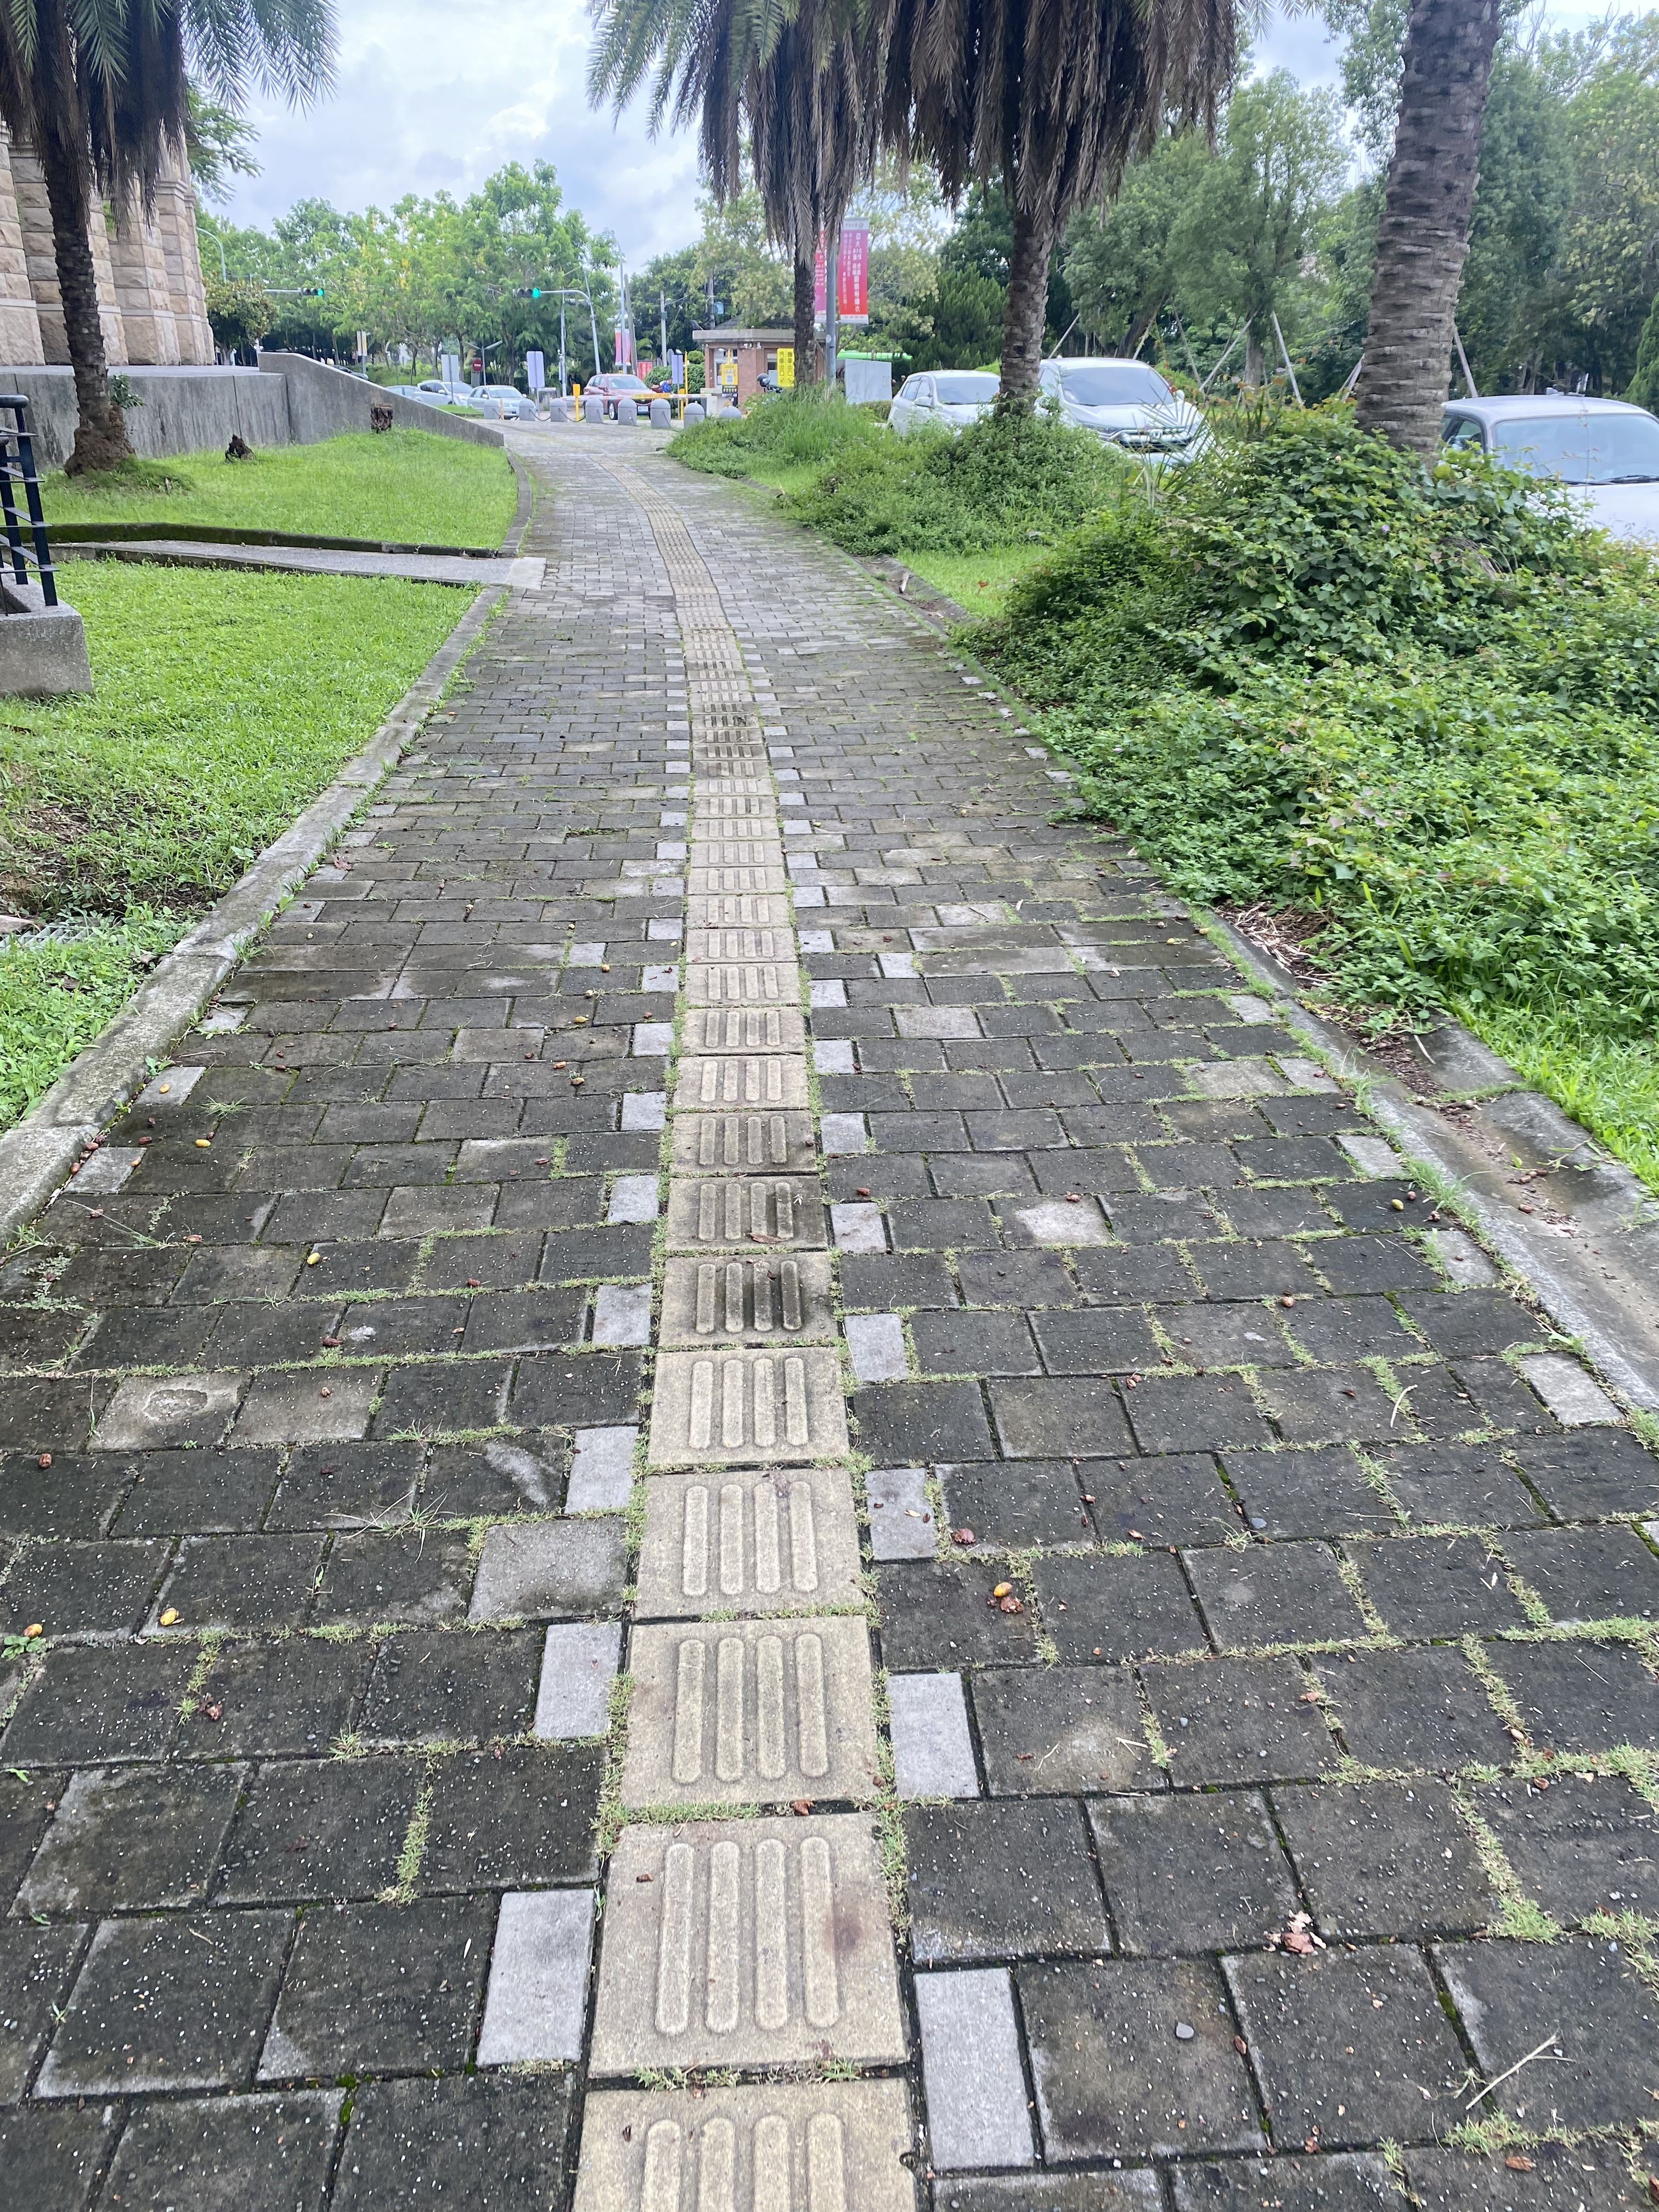0: (3, 672, 1659, 2212)
sidewalk: (441, 385, 1084, 1296)
